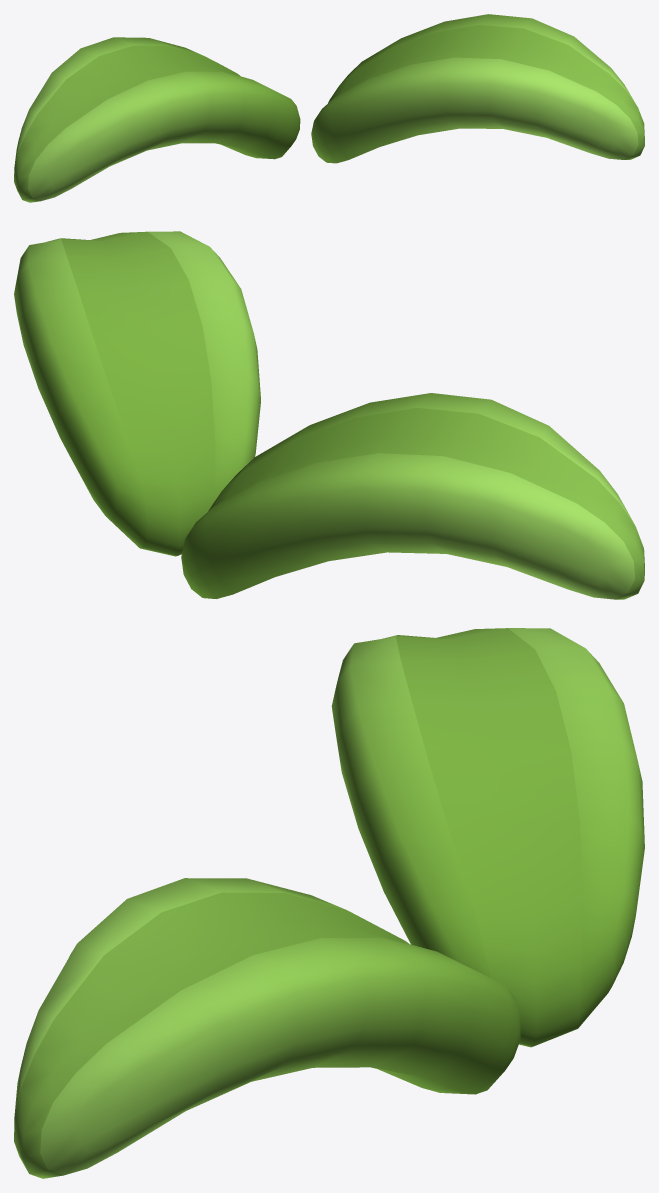
The model's file is Character_Plant1.fbx.
The picture shows the model from 3 angles, top to bottom: view 1: azimuth 30°, elevation 25°; view 2: azimuth 150°, elevation 25°; view 3: azimuth 270°, elevation 25°; orthographic projection. The views are drawn at different scales.
Visible parts, largest first — view 1: grass_3; view 2: grass_3; view 3: grass_3.
Boxes of the visible parts, bbox=[...] form: grass_3: bbox=[14, 14, 644, 202]; grass_3: bbox=[14, 231, 644, 599]; grass_3: bbox=[14, 628, 644, 1178].
Size of the model in its own units: 84.98 by 21.86 by 49.39.
1 material, 1 textured.
